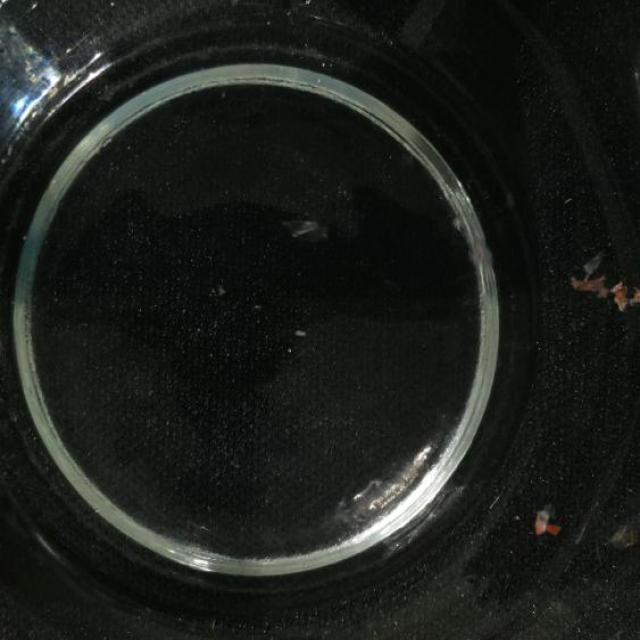fiber: (568, 242, 639, 331), (517, 500, 563, 546), (296, 209, 324, 242)
